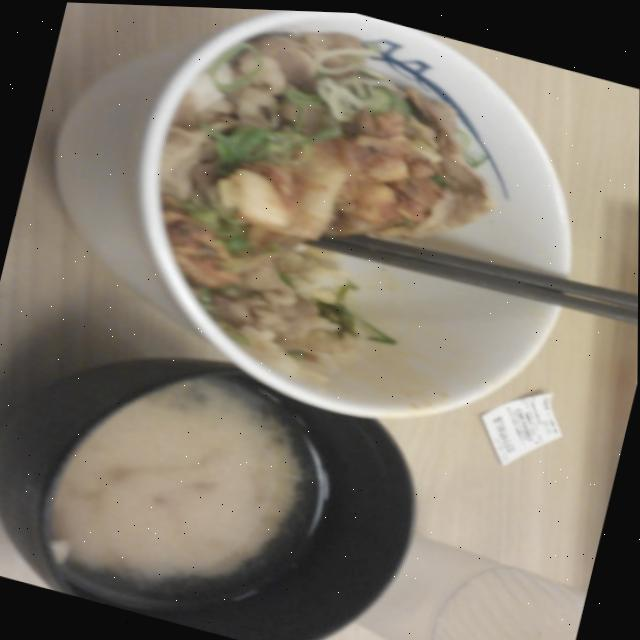汤锅炖物: (85, 210, 502, 500)
